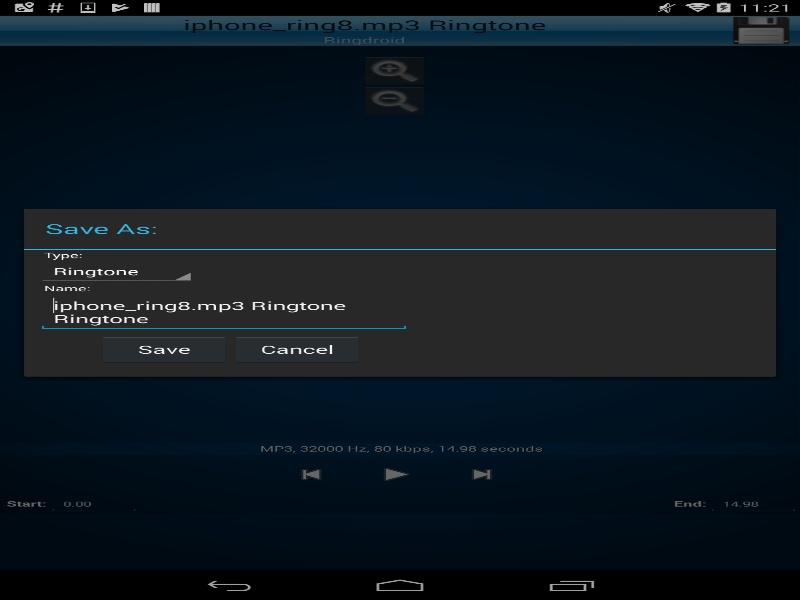Button: (230, 334, 364, 364), (97, 334, 230, 364)
Input: (37, 293, 410, 331)
